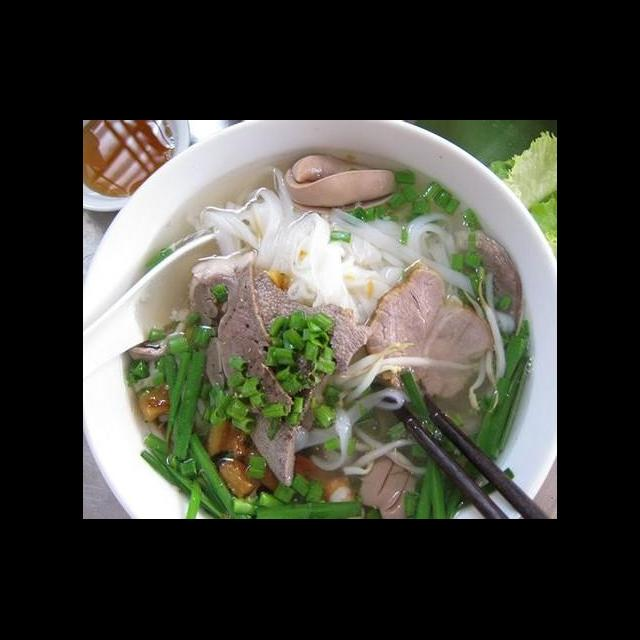banh hu tieu: (193, 164, 482, 324)
gan: (203, 252, 313, 492), (447, 216, 529, 340)
hu tieu: (98, 148, 540, 519)
thit heo: (355, 252, 501, 408)
